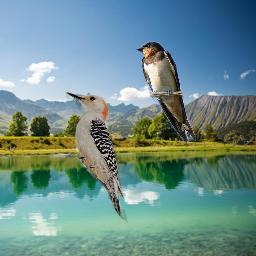Swallow: (135, 41, 196, 143)
Woodpecker: (65, 86, 128, 224)
